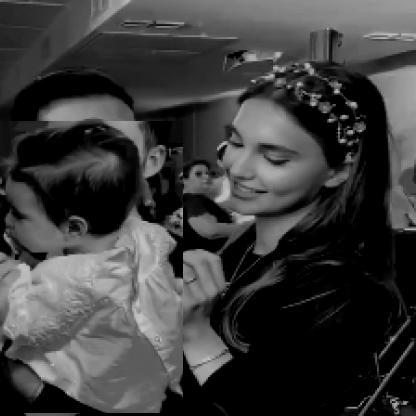child: (1, 122, 185, 415)
